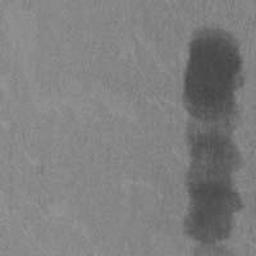Oil spot: (179, 19, 256, 256)
